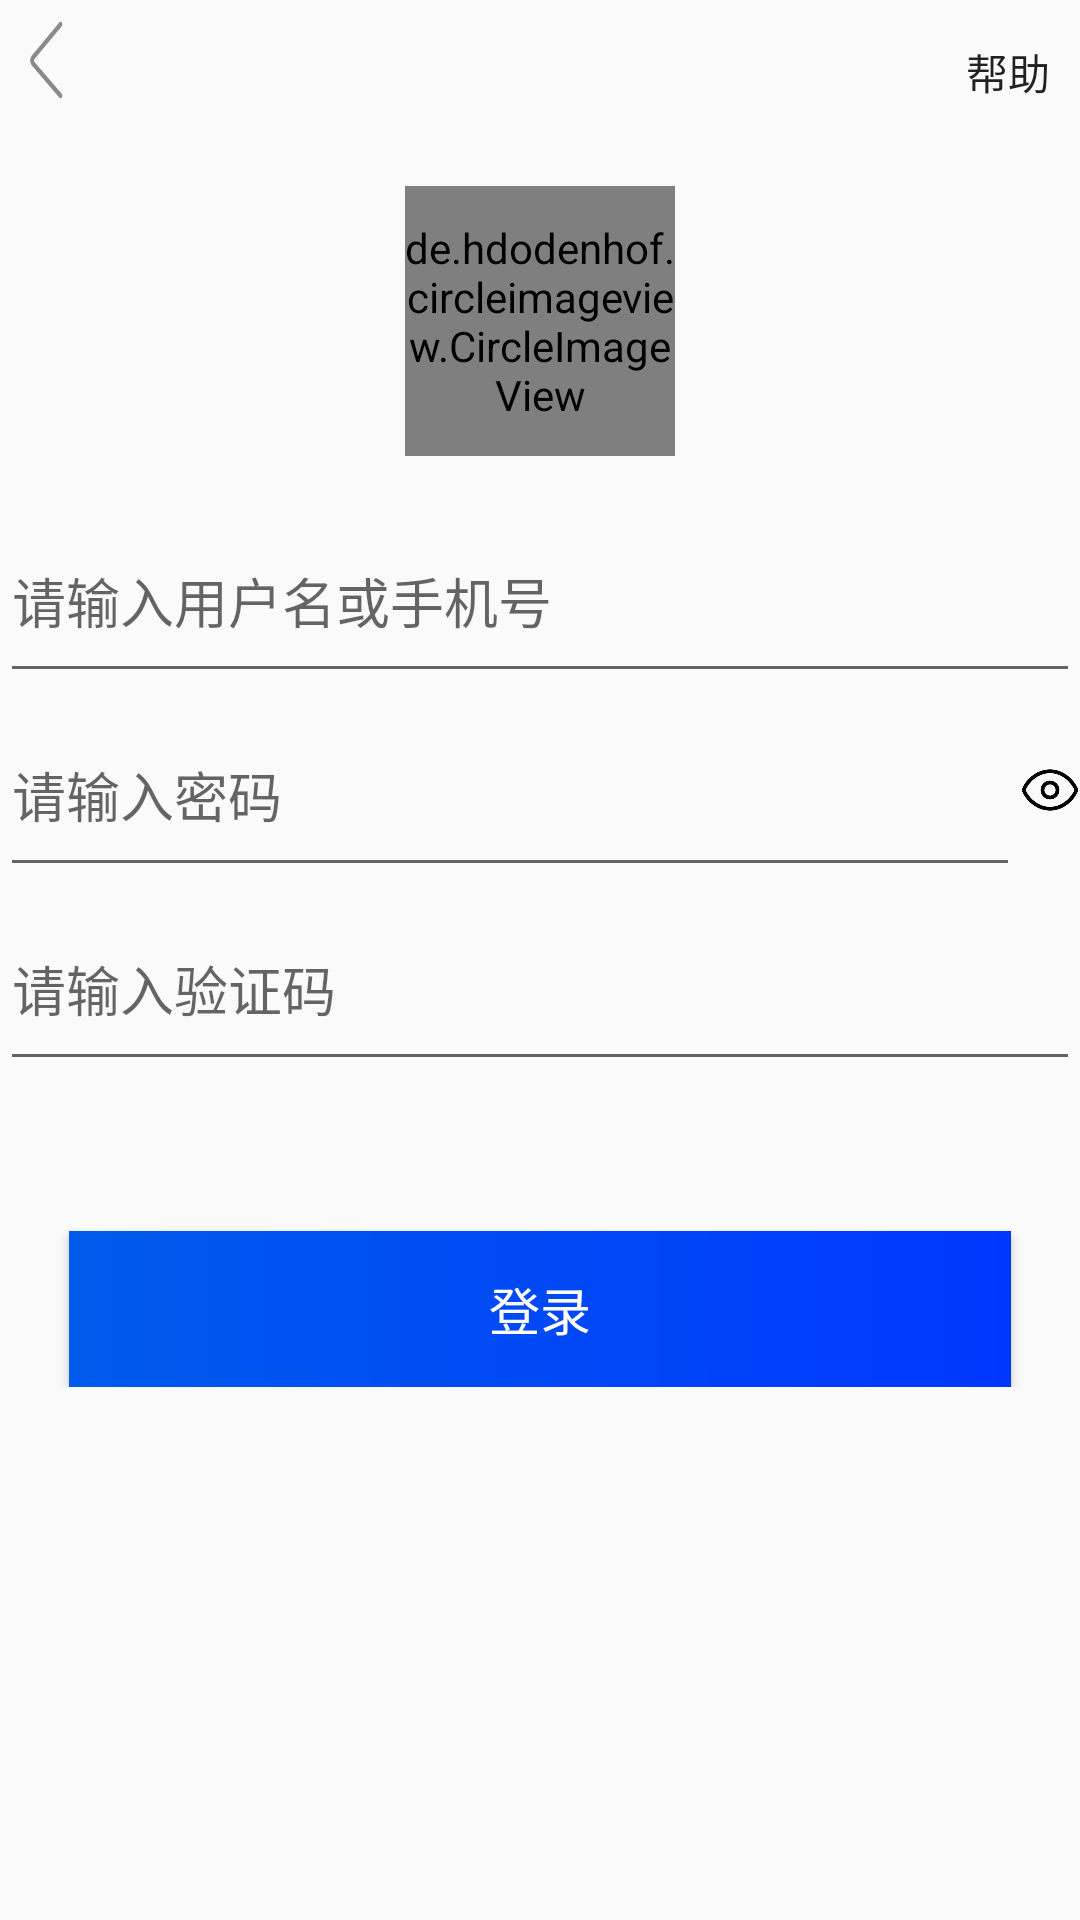

Icons on this 1080 x 1920 Android screen, each with its box as [left=x1, top=y1, right=x2, bottom=y2]:
back: [left=30, top=22, right=63, bottom=98]
eye: [left=1022, top=769, right=1078, bottom=811]
